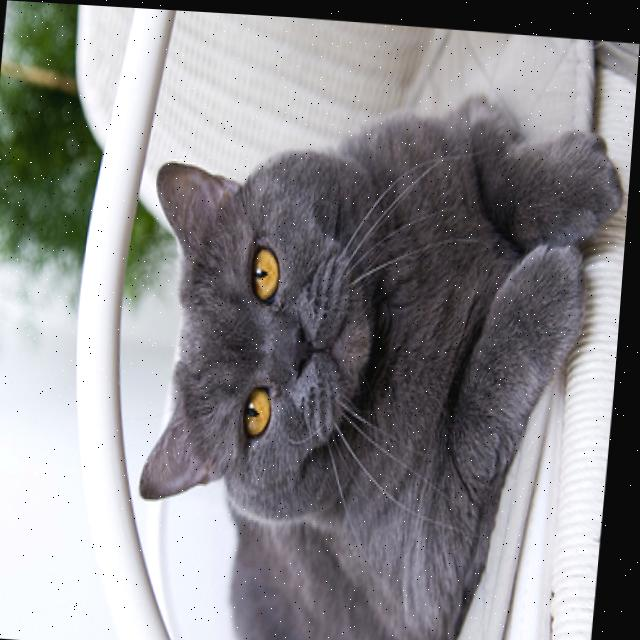British Shorthair: (118, 66, 633, 640)
